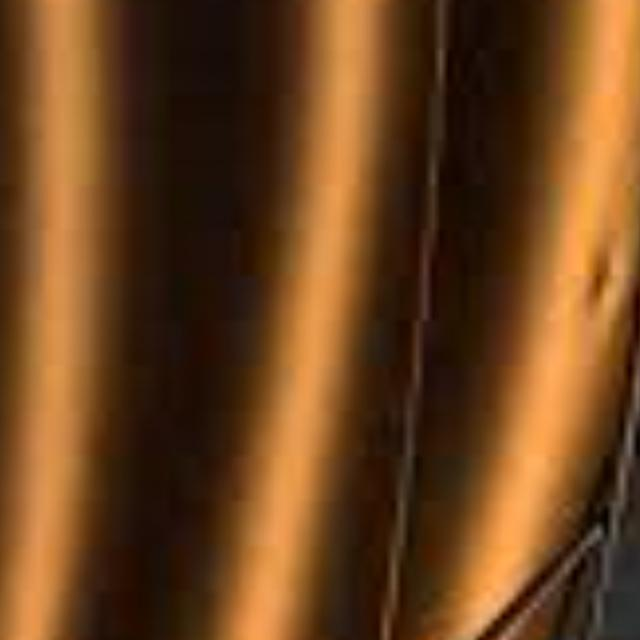dents: (580, 233, 634, 391)
